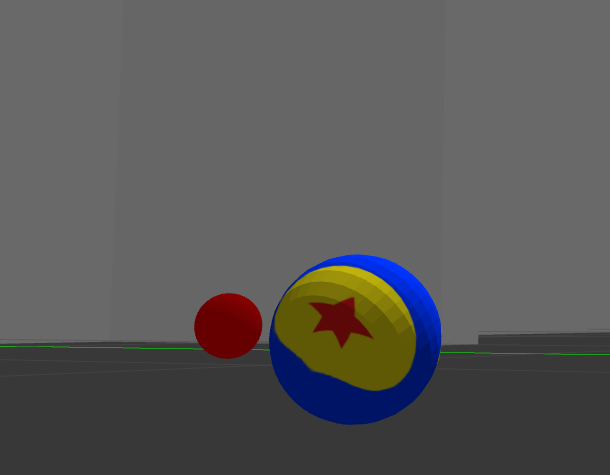toy story ball: (271, 253, 443, 424)
